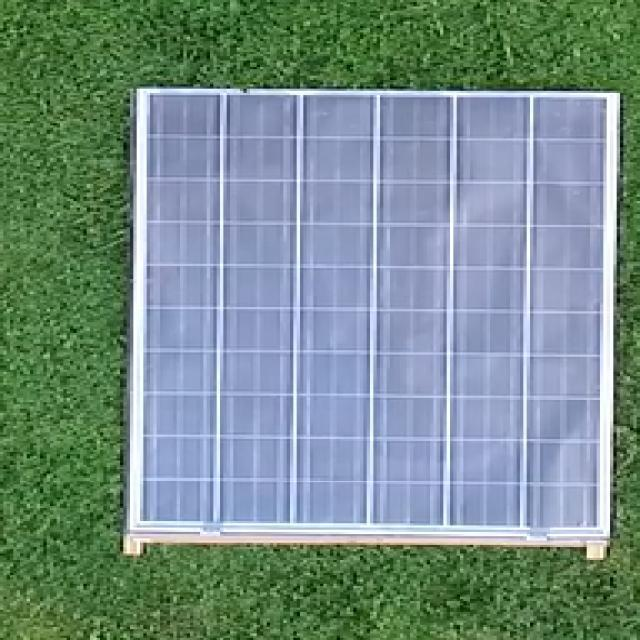no faulty: (142, 91, 609, 539)
